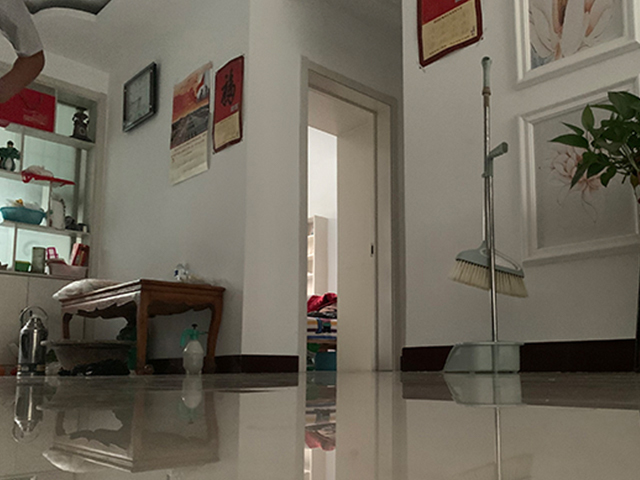cabinet: (1, 273, 90, 376)
table: (57, 278, 226, 376)
